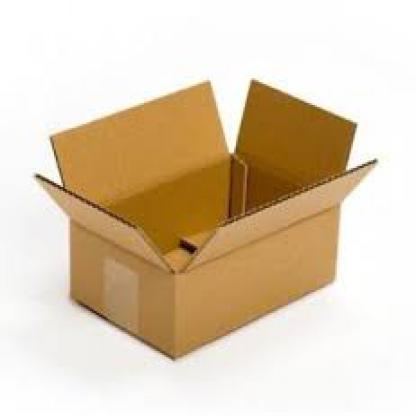CARDBOARD: (32, 76, 374, 359)
